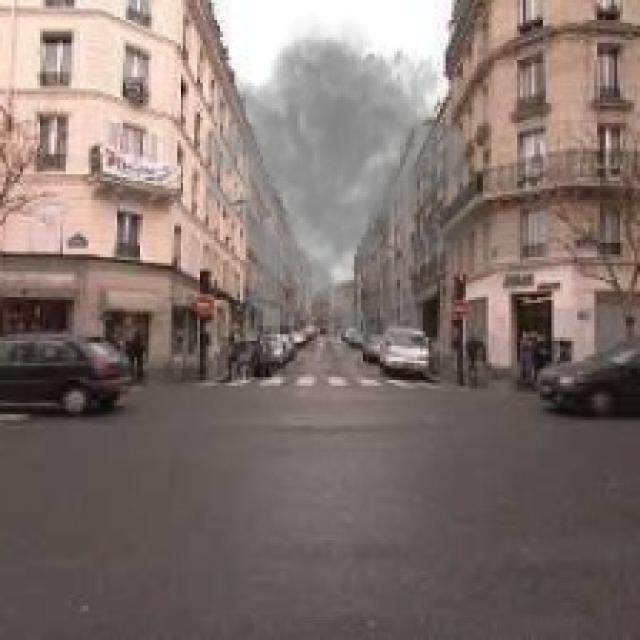Smoke: (192, 11, 568, 368)
